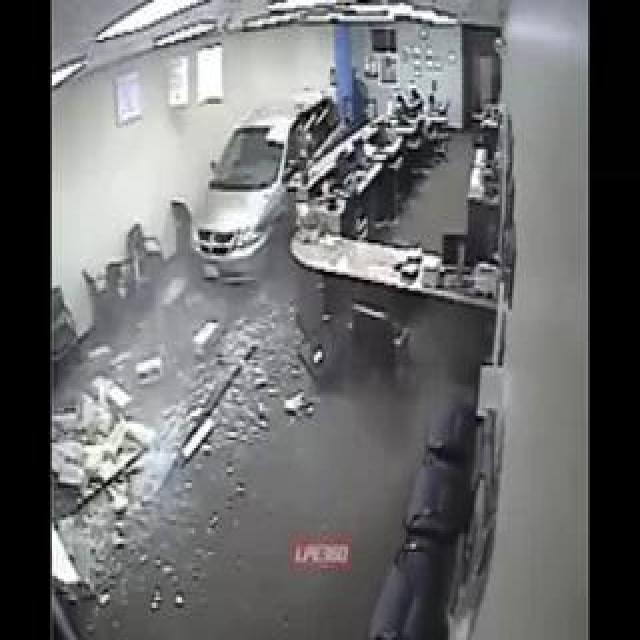burglary: (175, 100, 348, 320)
